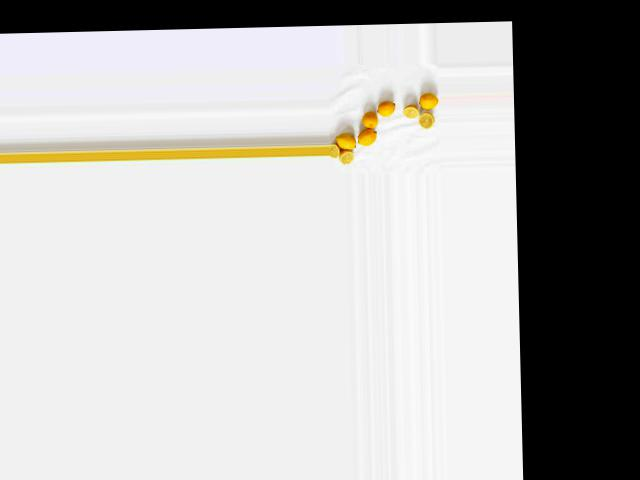lemon: (334, 129, 362, 150)
